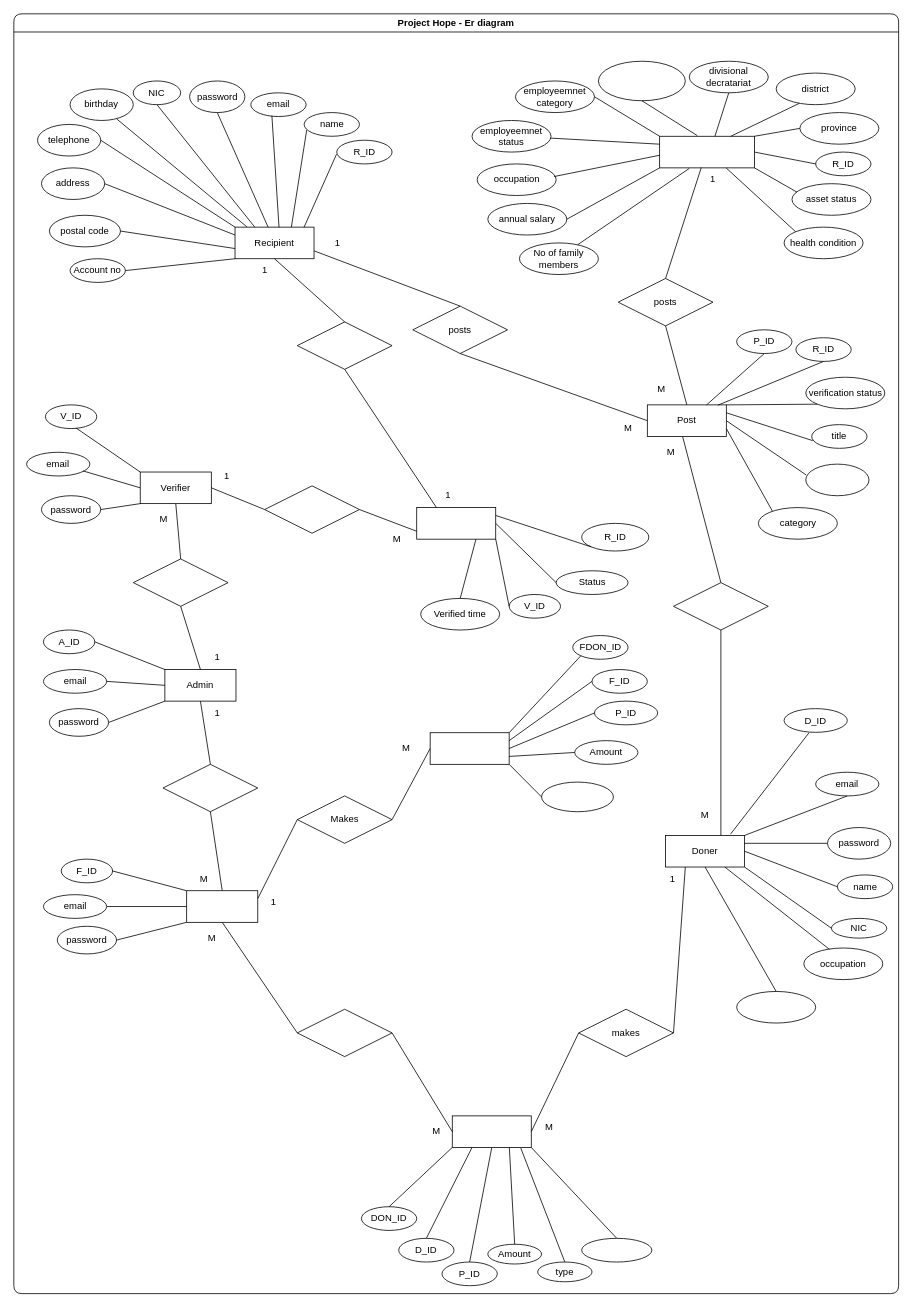
Some shapes in this 912 by 1307 pixel diagram are drawn without their labels. The box of each missing label's shape, as (x1, y1, x2, y2) in pixels:
Assigned by: (132, 558, 228, 606)
Assigns: (162, 764, 258, 812)
Donation: (451, 1115, 531, 1147)
Financier: (186, 890, 258, 922)
Forwarded donation: (429, 732, 509, 764)
grama niladhari division: (598, 60, 685, 101)
Message: (805, 463, 869, 496)
organization: (736, 991, 816, 1023)
Overviews: (296, 1008, 392, 1057)
request: (296, 321, 392, 369)
time made: (581, 1238, 652, 1262)
Time of transaction: (541, 781, 613, 812)
Verification request: (416, 507, 496, 539)
Verified recipient: (659, 135, 754, 168)
Verifies: (264, 485, 359, 533)
viewed by: (673, 582, 768, 630)
